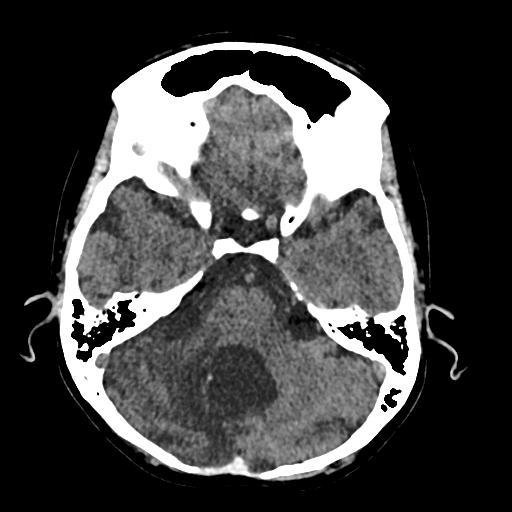Cancer: (175, 328, 298, 426)
